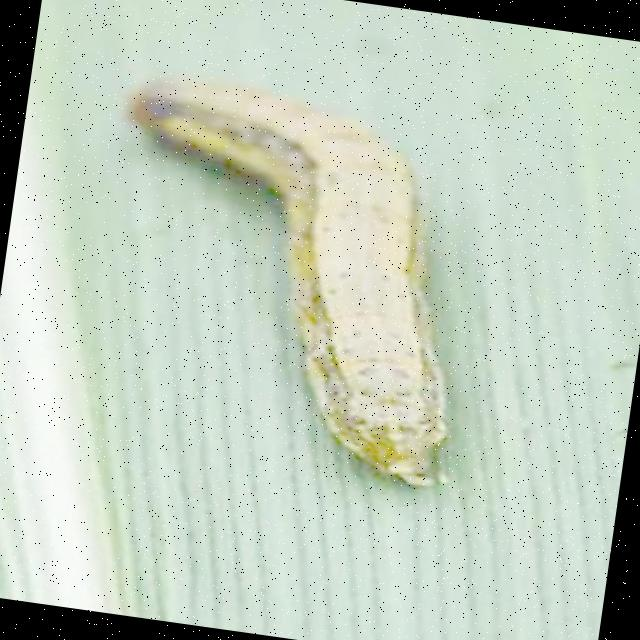worm: (81, 68, 499, 495)
